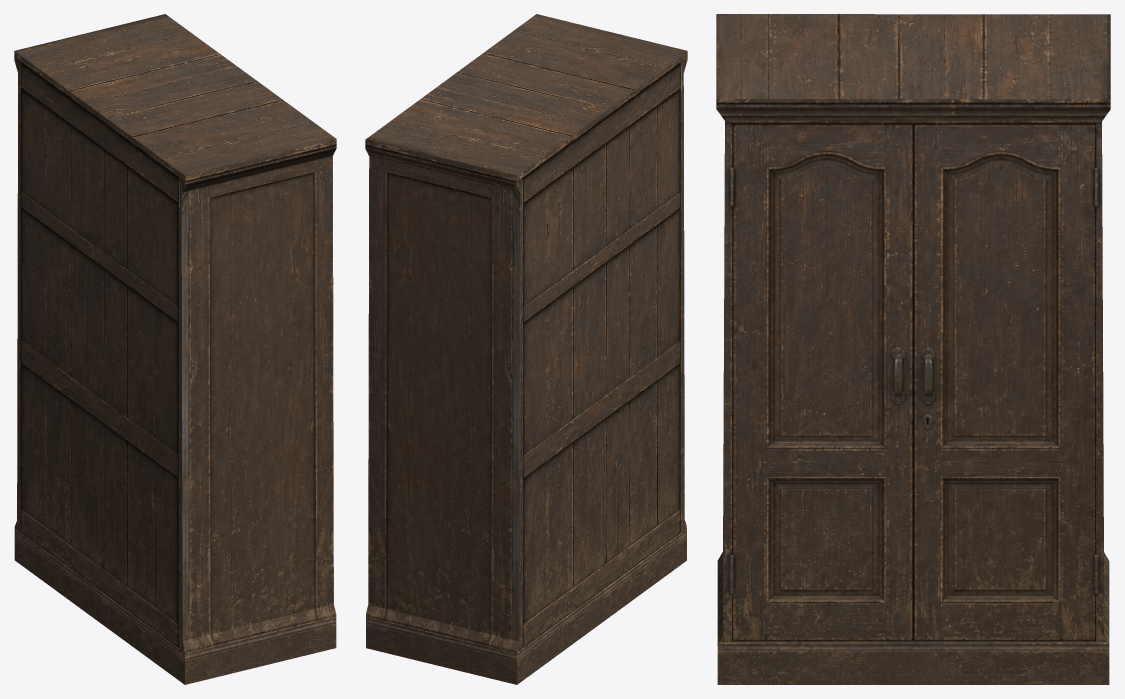
File: Wardrobe.fbx
3 renders of one model, left to right at view 1: azimuth 30°, elevation 25°; view 2: azimuth 150°, elevation 25°; view 3: azimuth 270°, elevation 25°, orthographic. The views are drawn at different scales.
Parts seen in each view (by area): view 1: Wardrobe; view 2: Wardrobe; view 3: Wardrobe.
Boxes of the visible parts, <box> form: Wardrobe: <box>14,14,336,684</box>; Wardrobe: <box>365,14,687,684</box>; Wardrobe: <box>716,14,1110,684</box>.
Bounding box in the file's own units: 90.08 × 290 × 177.
1 material, 1 textured.
